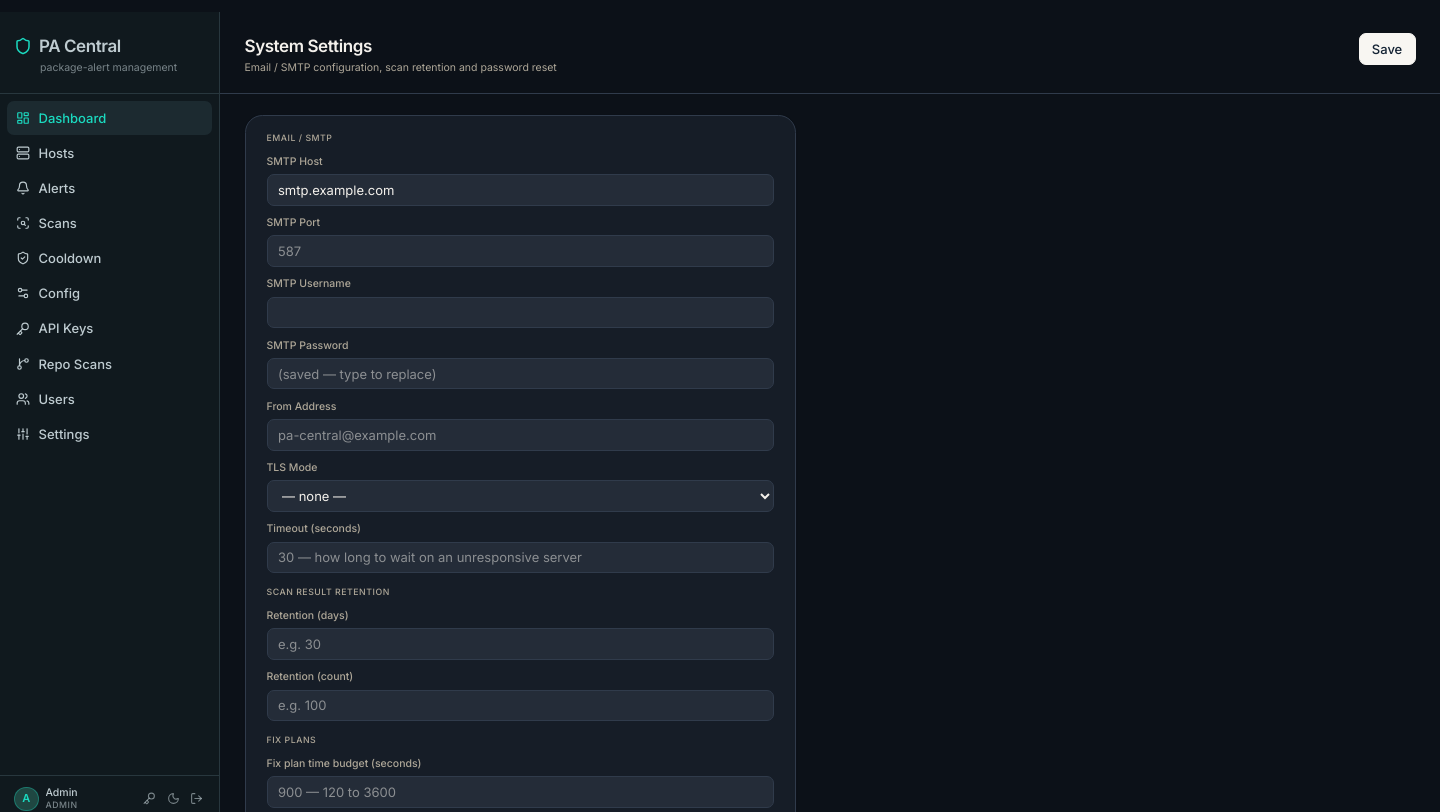
SystemSettings — an unsaved edit to a dependency field cannot act on stale readiness › does not re-enable the toggle the instant a save completes, before the refreshed readiness arrives
Clear the field labelled "SMTP Host" at {"x": 520, "y": 190}, box [266,174,774,206]
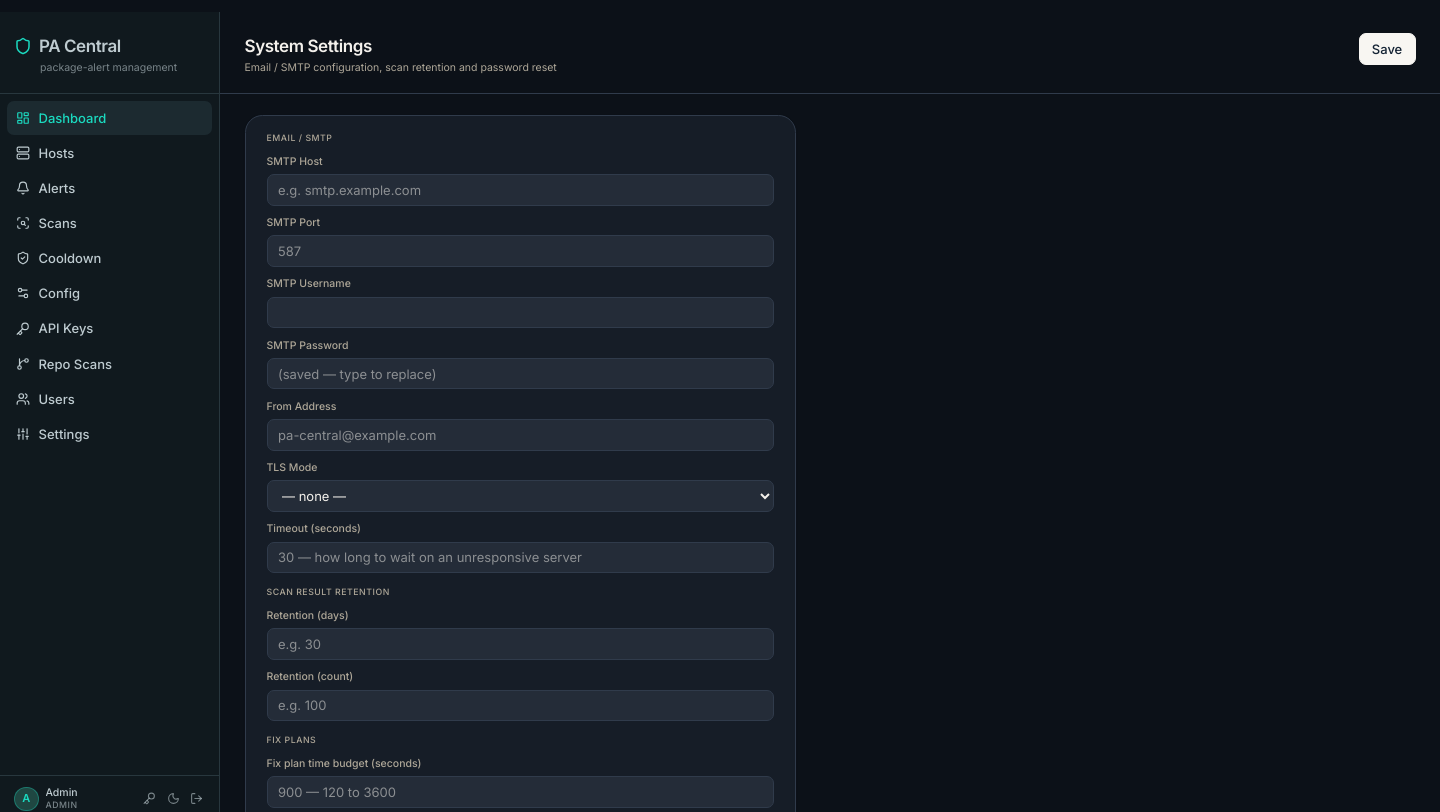
Click the button "Save" at {"x": 1387, "y": 49}, box [1358,33,1416,64]
(page scrolled)
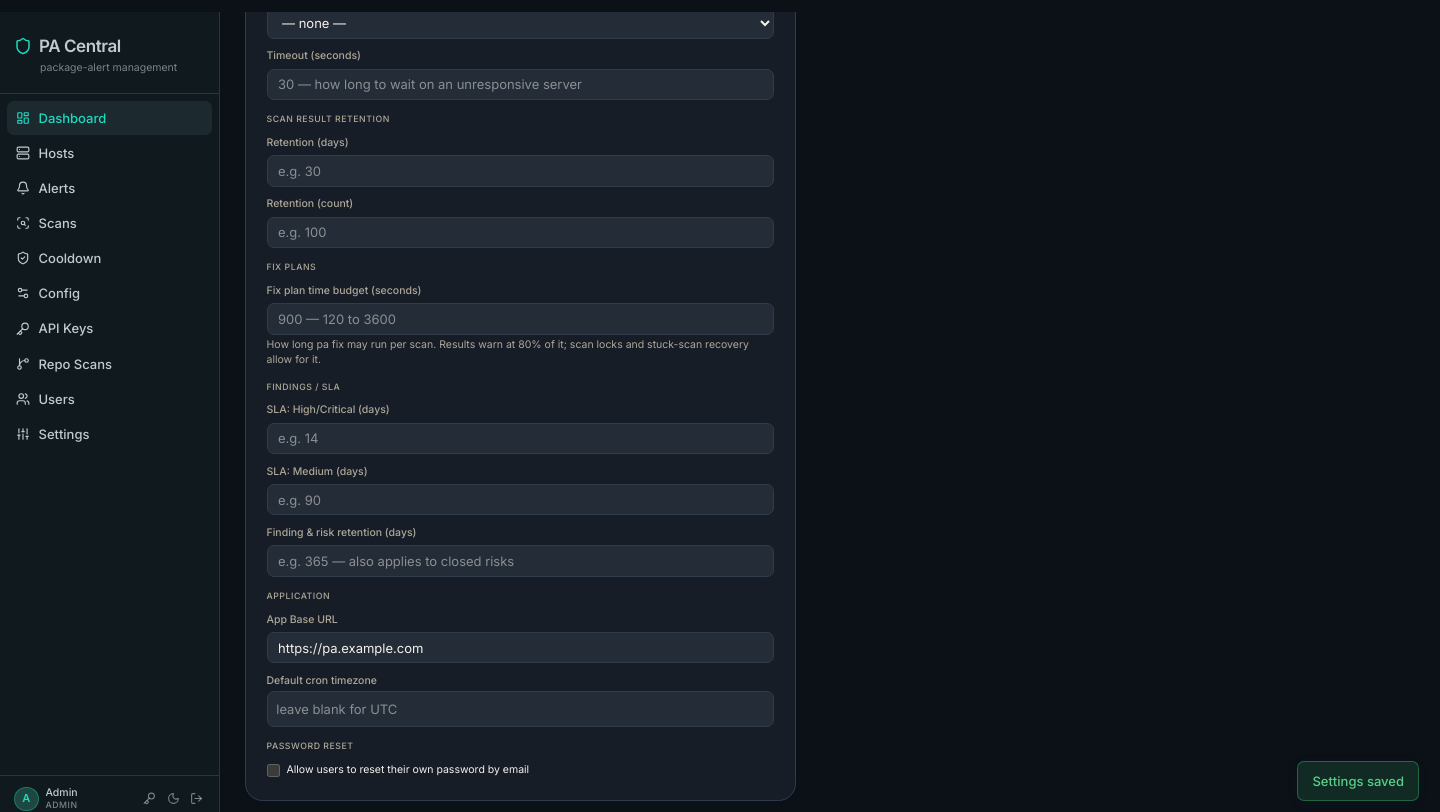
Expected: the text "Settings saved" is shown, [1298,761,1419,801]
Expected: the checkbox labelled "Allow users to reset their own password by email" is disabled, [266,764,280,777]
